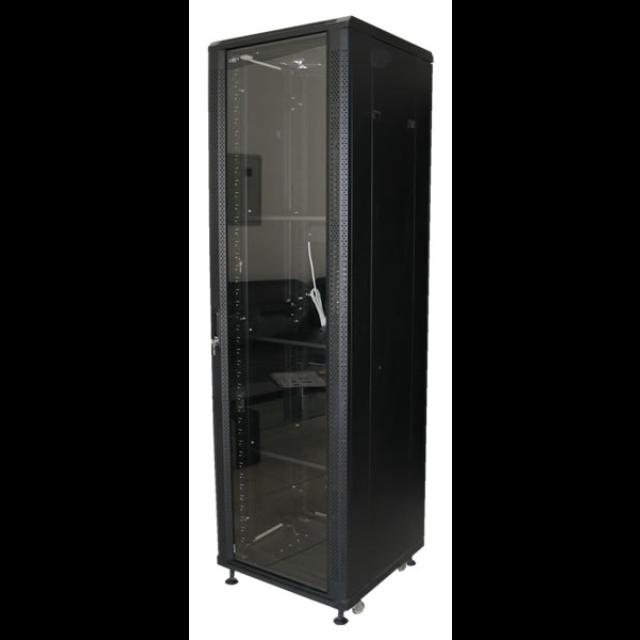Server: (197, 12, 451, 630)
